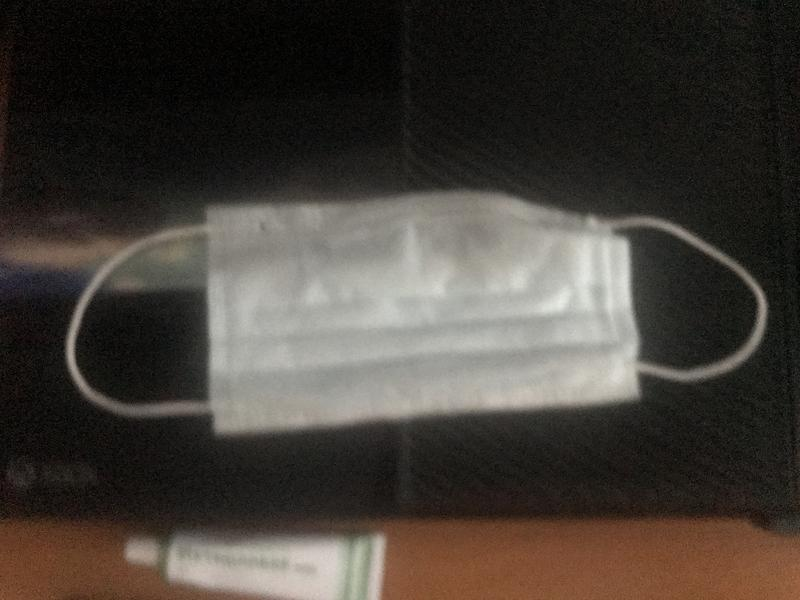medical_mask: (68, 187, 767, 435)
